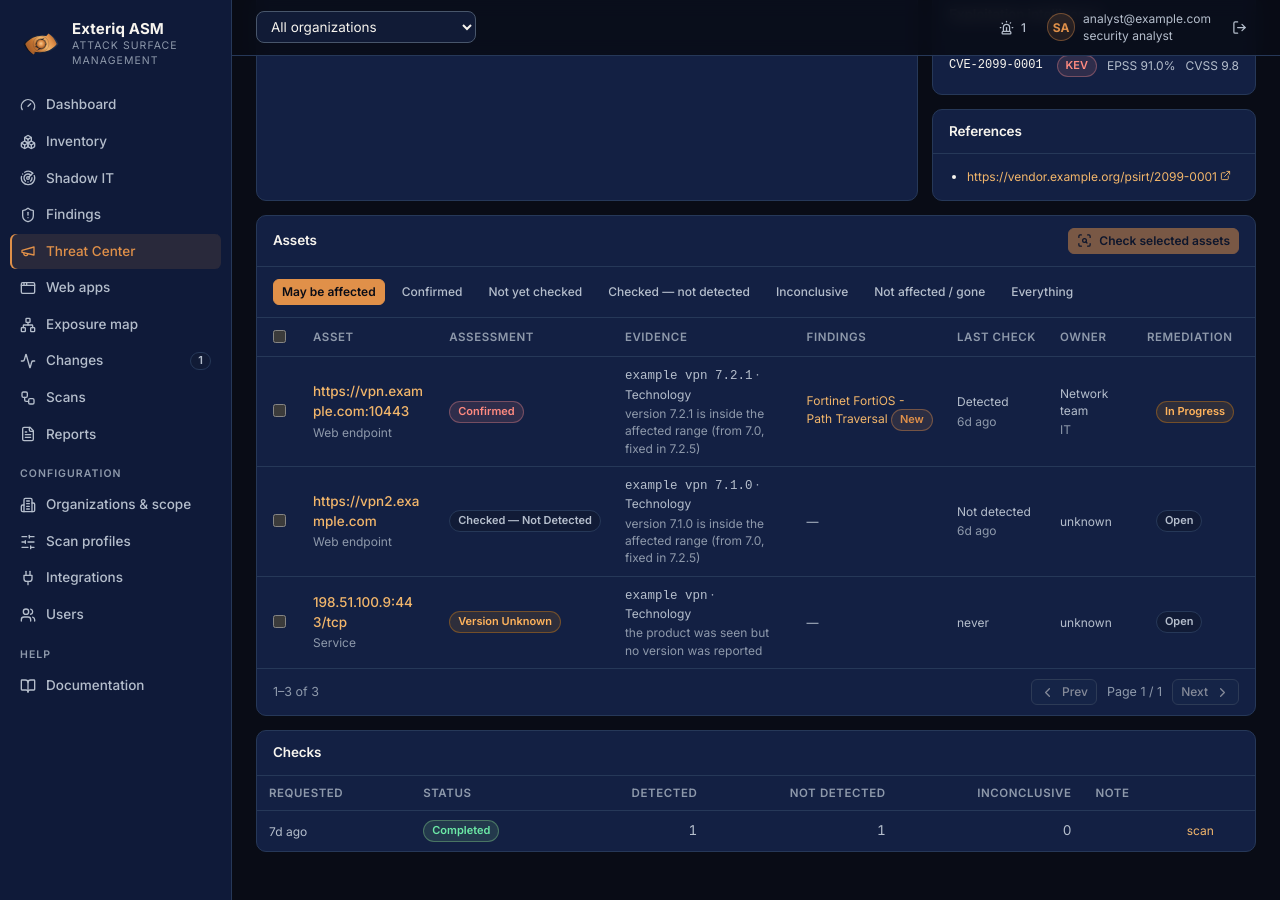
Scenario: Threat Center › an analyst checks selected assets through the API and sees a conflict explained
(page scrolled)
expect the link "https://vpn2.example.com" is shown: met, box [313,493,419,529]
expect the button "Check selected assets" is disabled: met, box [1068,228,1239,254]
Step 1. Click the checkbox named "Select https://vpn2.example.com" → (280,520), box [273,514,286,527]
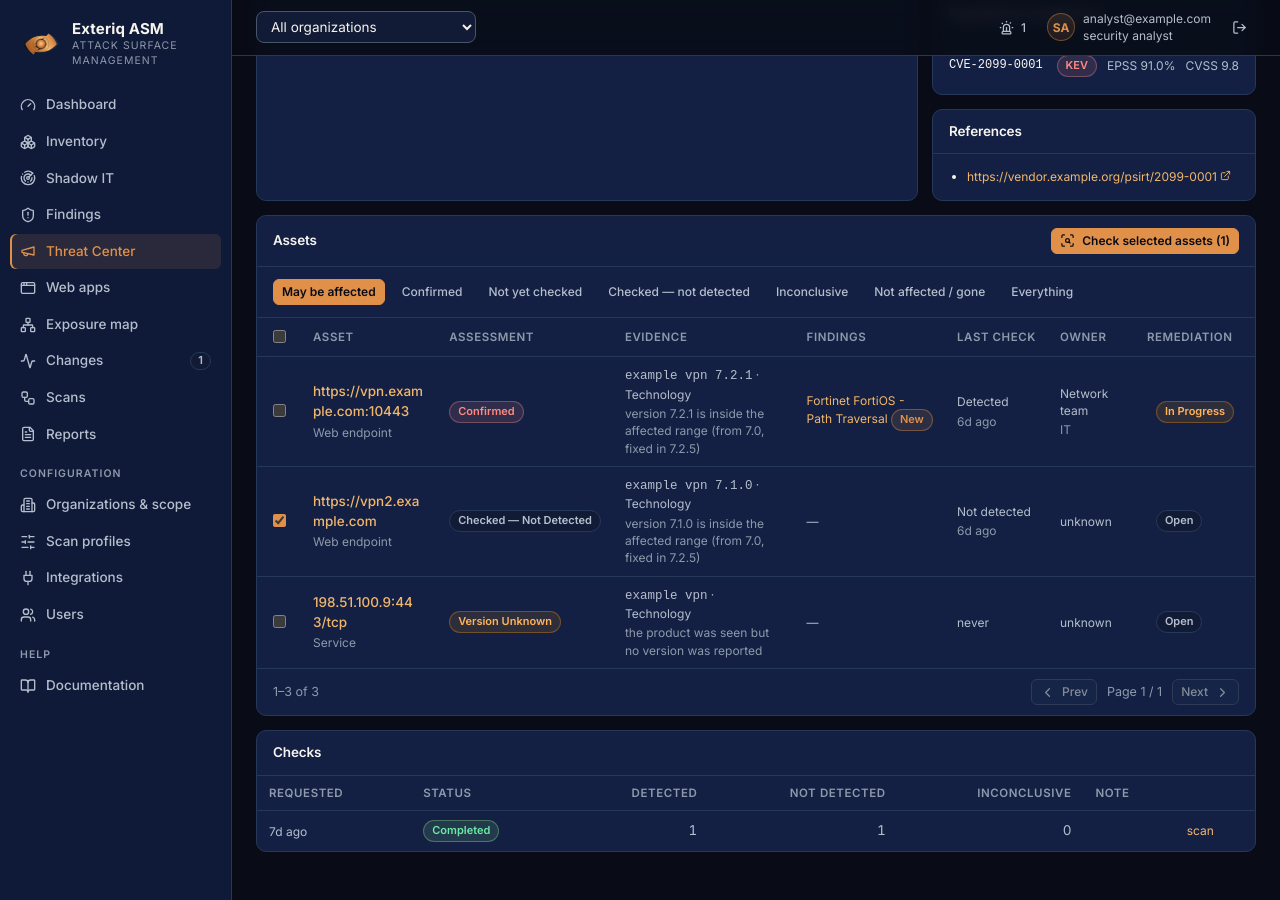
Step 2. Click the button "Check selected assets (1)" → (1145,241), box [1051,228,1239,254]
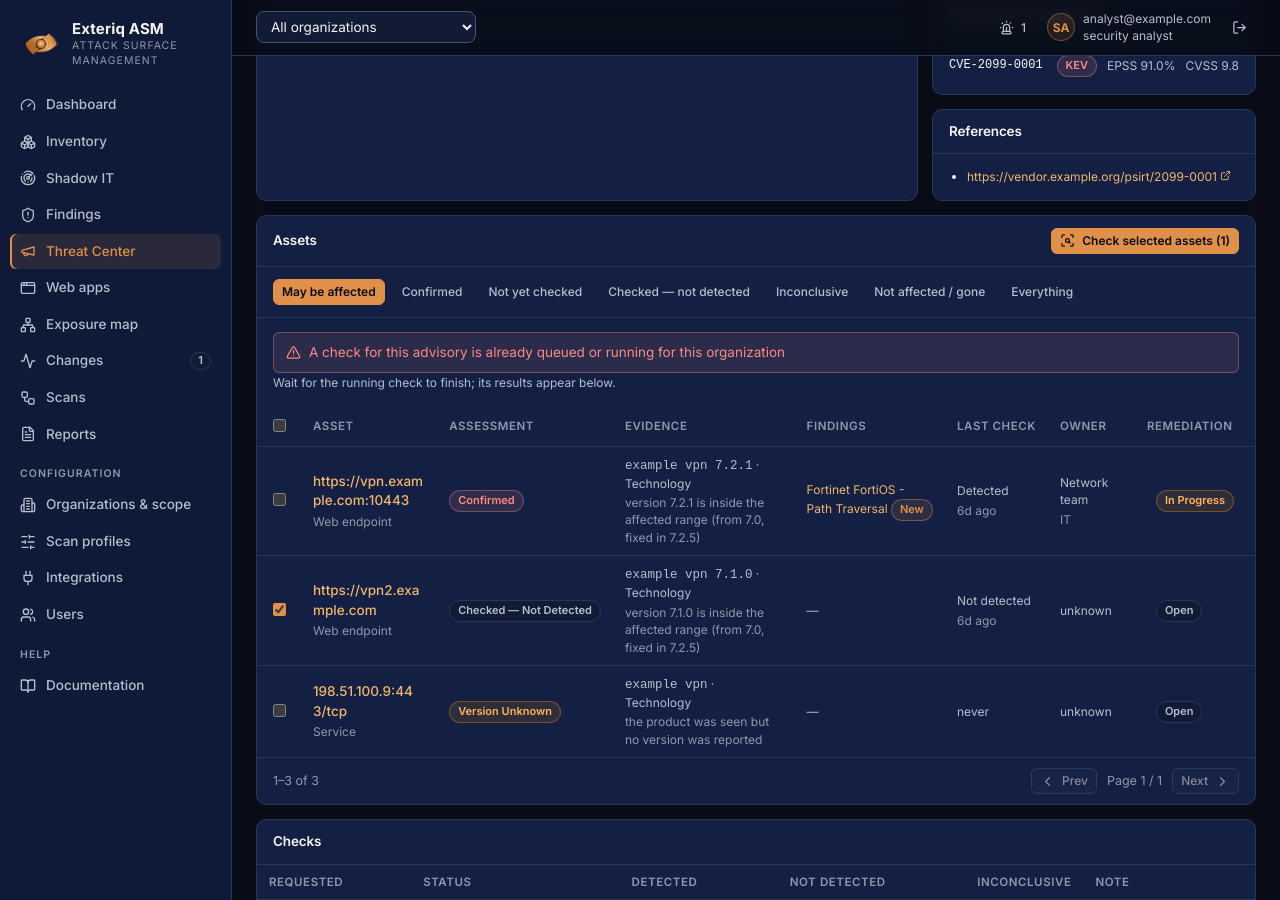
expect the text "already queued or running" is shown: met, box [309,344,785,360]
expect the text "Wait for the running check to finish" is shown: met, box [273,375,616,390]
